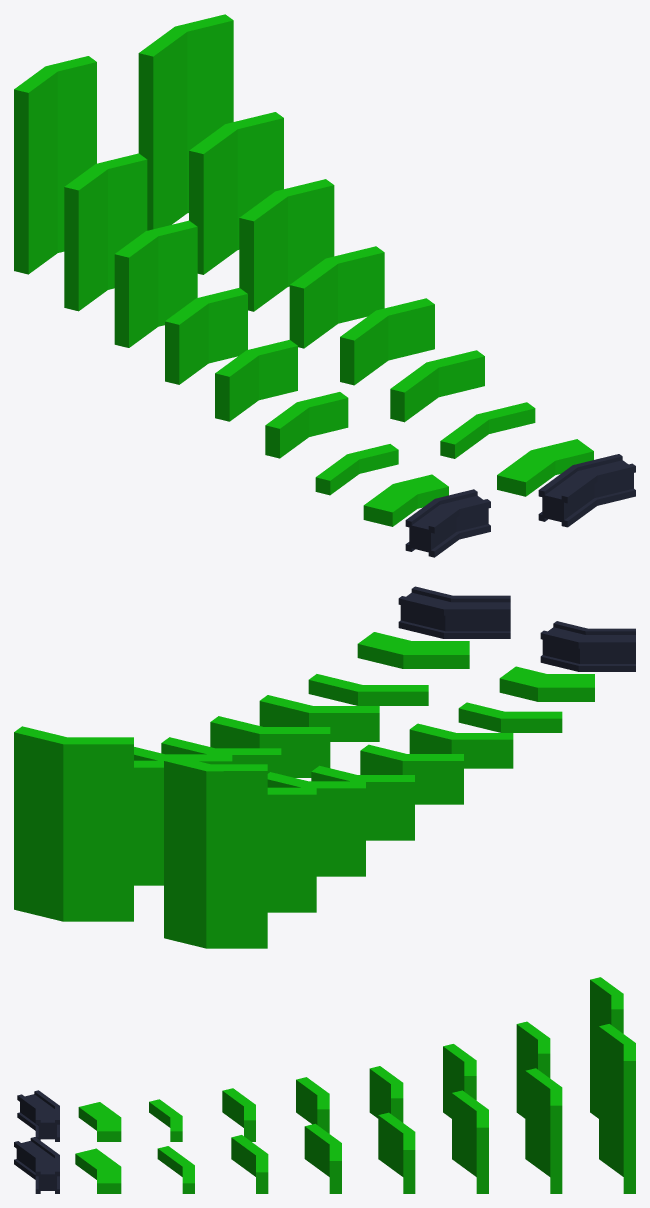
File: Starbase_30Deg_AngledPlates_Cleaned.obj
3 renders of one model, top to bottom at view 1: azimuth 30°, elevation 25°; view 2: azimuth 150°, elevation 25°; view 3: azimuth 270°, elevation 25°, orthographic. The views are drawn at different scales.
Parts seen in each view (by area): view 1: AngledSet Imported_Group AnglePlate_Large_144, AngledSet Imported_Group AnglePlate_Small_144, AngledSet Imported_Group AnglePlate_Large_96, AngledSet Imported_Group AnglePlate_Small_96, AngledSet Imported_Group AnglePlate_Large_72, AngledSet Imported_Group AnglePlate_Small_72, AngledSet Imported_Group AnglePlate_Large_48, AngledSet Imported_Group AnglePlate_Small_48, AngledSet Imported_Group AnglePlate_Large_36, AngledSet Imported_Group AnglePlate_Small_36, AngledSet Imported_Group AngledBeam_Large, AngledBeam_Small AngledSet Imported_Group (+6 smaller); view 2: AngledSet Imported_Group AnglePlate_Large_144, AngledSet Imported_Group AnglePlate_Small_144, AngledSet Imported_Group AnglePlate_Small_96, AngledSet Imported_Group AnglePlate_Small_72, AngledSet Imported_Group AngledBeam_Large, AngledSet Imported_Group AnglePlate_Large_36, AngledBeam_Small AngledSet Imported_Group, AngledSet Imported_Group AnglePlate_Small_36, AngledSet Imported_Group AnglePlate_Small_48, AngledSet Imported_Group AnglePlate_Large_96, AngledSet Imported_Group AnglePlate_Large_24, AngledSet Imported_Group AnglePlate_Small_24 (+6 smaller); view 3: AngledSet Imported_Group AnglePlate_Large_144, AngledSet Imported_Group AnglePlate_Large_96, AngledSet Imported_Group AnglePlate_Large_72, AngledSet Imported_Group AnglePlate_Small_144, AngledSet Imported_Group AnglePlate_Large_48, AngledSet Imported_Group AnglePlate_Small_96, AngledSet Imported_Group AngledBeam_Large, AngledSet Imported_Group AnglePlate_Large_36, AngledSet Imported_Group AnglePlate_Small_72, AngledBeam_Small AngledSet Imported_Group, AngledSet Imported_Group AnglePlate_Small_48, AngledSet Imported_Group AnglePlate_Small_36 (+6 smaller).
Boxes of the visible parts, x1,y1,x2,y2 form: AngledSet Imported_Group AnglePlate_Large_144: [138, 14, 233, 230]; AngledSet Imported_Group AnglePlate_Small_144: [14, 56, 96, 274]; AngledSet Imported_Group AnglePlate_Large_96: [189, 112, 283, 274]; AngledSet Imported_Group AnglePlate_Small_96: [64, 153, 147, 311]; AngledSet Imported_Group AnglePlate_Large_72: [239, 179, 334, 311]; AngledSet Imported_Group AnglePlate_Small_72: [114, 220, 197, 347]; AngledSet Imported_Group AnglePlate_Large_48: [289, 246, 384, 348]; AngledSet Imported_Group AnglePlate_Small_48: [165, 287, 247, 384]; AngledSet Imported_Group AnglePlate_Large_36: [340, 298, 434, 385]; AngledSet Imported_Group AnglePlate_Small_36: [215, 339, 297, 421]; AngledSet Imported_Group AngledBeam_Large: [538, 454, 635, 527]; AngledBeam_Small AngledSet Imported_Group: [405, 489, 490, 557]; AngledSet Imported_Group AnglePlate_Large_144: [14, 726, 133, 921]; AngledSet Imported_Group AnglePlate_Small_144: [164, 755, 267, 948]; AngledSet Imported_Group AnglePlate_Small_96: [267, 787, 316, 912]; AngledSet Imported_Group AnglePlate_Small_72: [267, 772, 365, 876]; AngledSet Imported_Group AngledBeam_Large: [398, 586, 510, 638]; AngledSet Imported_Group AnglePlate_Large_36: [210, 716, 330, 777]; AngledBeam_Small AngledSet Imported_Group: [540, 621, 635, 671]; AngledSet Imported_Group AnglePlate_Small_36: [360, 744, 463, 804]; AngledSet Imported_Group AnglePlate_Small_48: [311, 765, 414, 840]; AngledSet Imported_Group AnglePlate_Large_96: [134, 760, 163, 885]; AngledSet Imported_Group AnglePlate_Large_24: [259, 695, 379, 741]; AngledSet Imported_Group AnglePlate_Small_24: [409, 723, 513, 768]; AngledSet Imported_Group AnglePlate_Large_144: [599, 1024, 635, 1193]; AngledSet Imported_Group AnglePlate_Large_96: [525, 1068, 562, 1193]; AngledSet Imported_Group AnglePlate_Large_72: [452, 1090, 488, 1193]; AngledSet Imported_Group AnglePlate_Small_144: [590, 977, 623, 1118]; AngledSet Imported_Group AnglePlate_Large_48: [378, 1112, 415, 1193]; AngledSet Imported_Group AnglePlate_Small_96: [516, 1021, 550, 1118]; AngledSet Imported_Group AngledBeam_Large: [14, 1137, 59, 1193]; AngledSet Imported_Group AnglePlate_Large_36: [304, 1123, 341, 1193]; AngledSet Imported_Group AnglePlate_Small_72: [443, 1044, 476, 1118]; AngledBeam_Small AngledSet Imported_Group: [17, 1090, 59, 1141]; AngledSet Imported_Group AnglePlate_Small_48: [369, 1066, 403, 1122]; AngledSet Imported_Group AnglePlate_Small_36: [296, 1077, 329, 1133].
Size of the model in its own units: 195 by 143 by 609.
